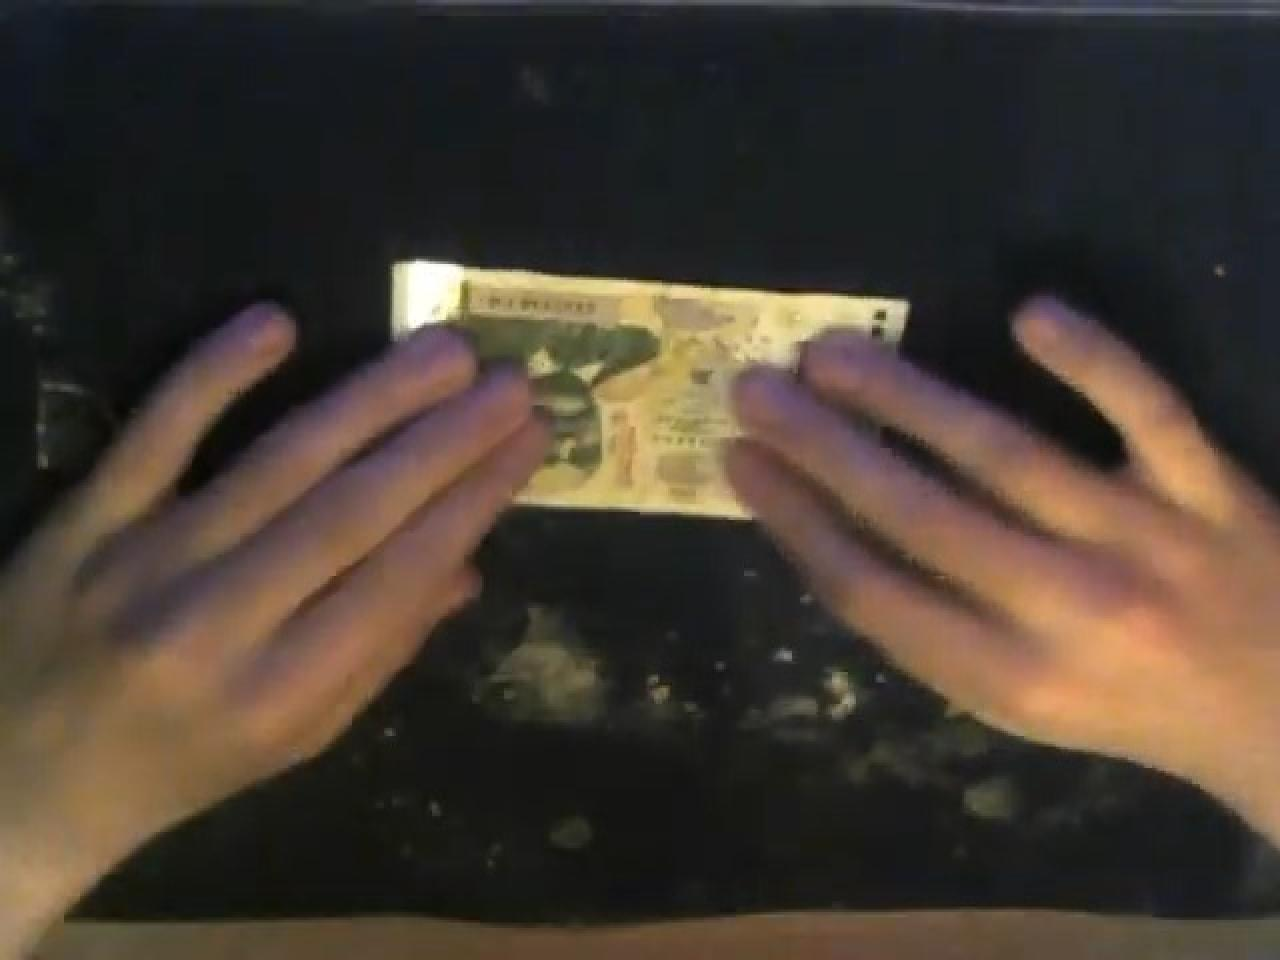10leva: (390, 259, 908, 517)
